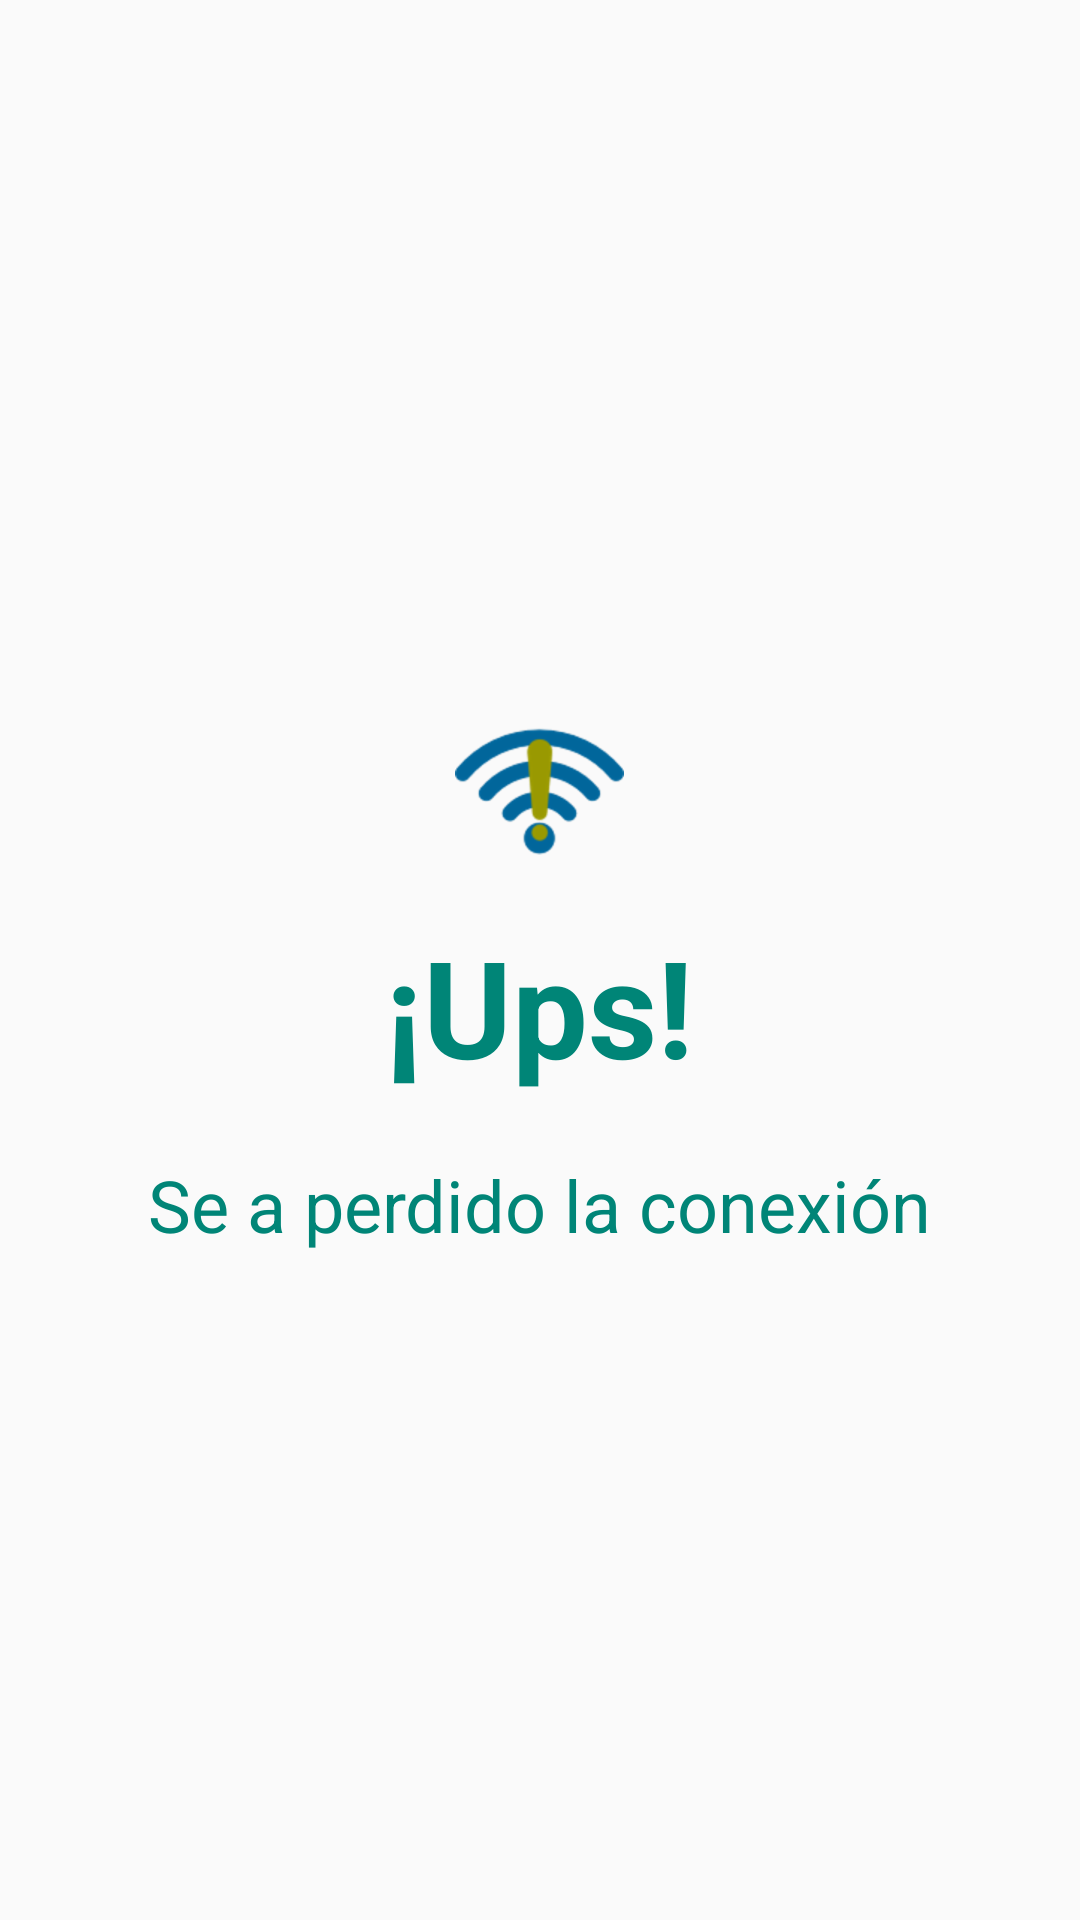

Icon click points for this 1080w x 1920h phone screenshot, format (x=x, y=y):
no connection: (x=539, y=791)
